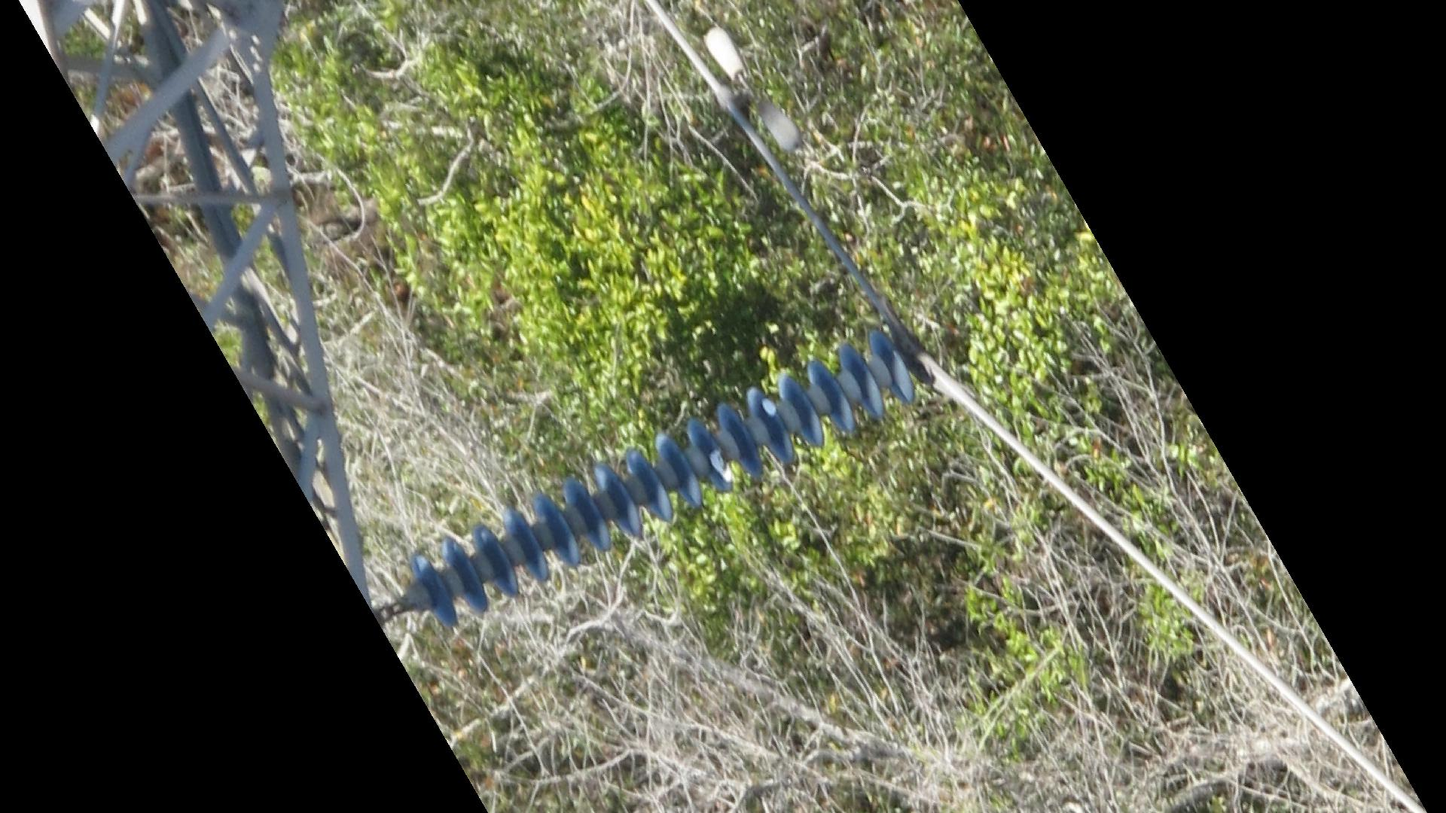insulator: (410, 322, 920, 634)
insulator_breakage: (705, 442, 738, 492), (754, 391, 782, 424)
